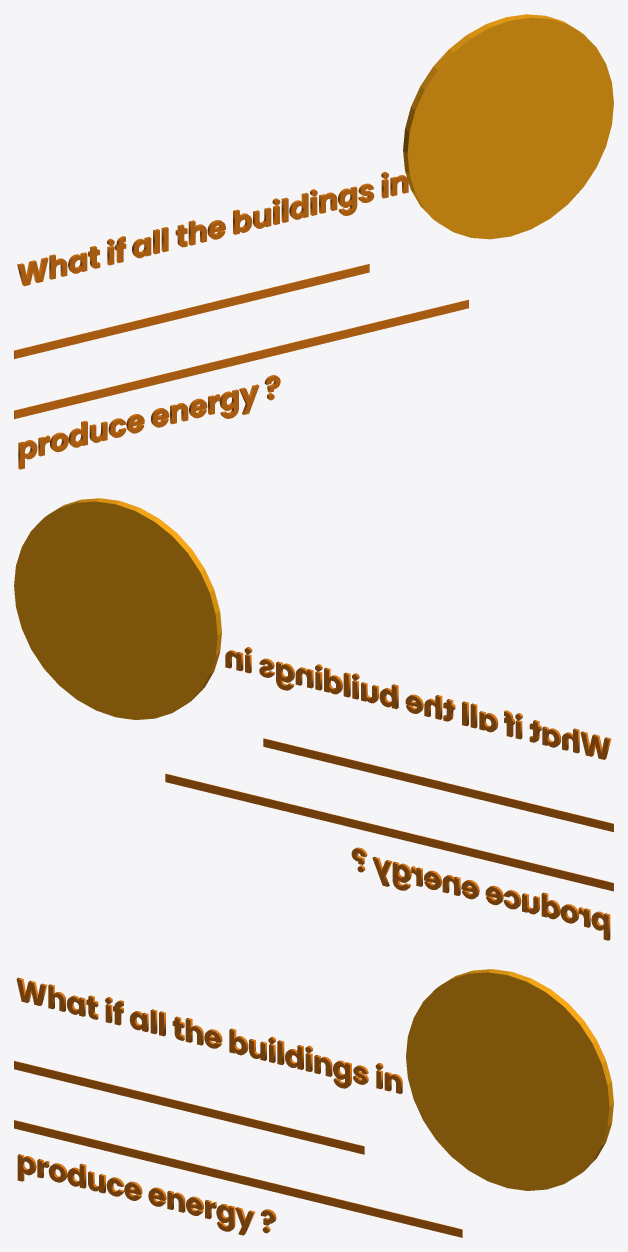
File: yazi.gltf
3 views of the same model, one above another, from view 1: azimuth 30°, elevation 25°; view 2: azimuth 150°, elevation 25°; view 3: azimuth 330°, elevation 25° (orthographic).
Parts seen in each view (by area): view 1: Günes.004, Text.013, Plane.016, Text.012, Plane.019; view 2: Günes.004, Text.013, Plane.016, Text.012, Plane.019; view 3: Günes.004, Text.013, Plane.016, Text.012, Plane.019.
Boxes of the visible parts, bbox=[...] form: Günes.004: bbox=[403, 14, 613, 239]; Text.013: bbox=[17, 171, 408, 286]; Plane.016: bbox=[14, 299, 468, 418]; Text.012: bbox=[18, 375, 280, 469]; Plane.019: bbox=[14, 264, 369, 358]; Günes.004: bbox=[14, 498, 221, 719]; Text.013: bbox=[225, 647, 611, 759]; Plane.016: bbox=[165, 773, 613, 891]; Text.012: bbox=[351, 847, 610, 940]; Plane.019: bbox=[263, 738, 613, 831]; Günes.004: bbox=[406, 969, 613, 1190]; Text.013: bbox=[16, 977, 402, 1093]; Plane.016: bbox=[14, 1120, 462, 1237]; Text.012: bbox=[17, 1154, 276, 1235]; Plane.019: bbox=[14, 1061, 364, 1154].
Bounding box in the file's own units: 0.8238 × 0.4274 × 0.0182.
